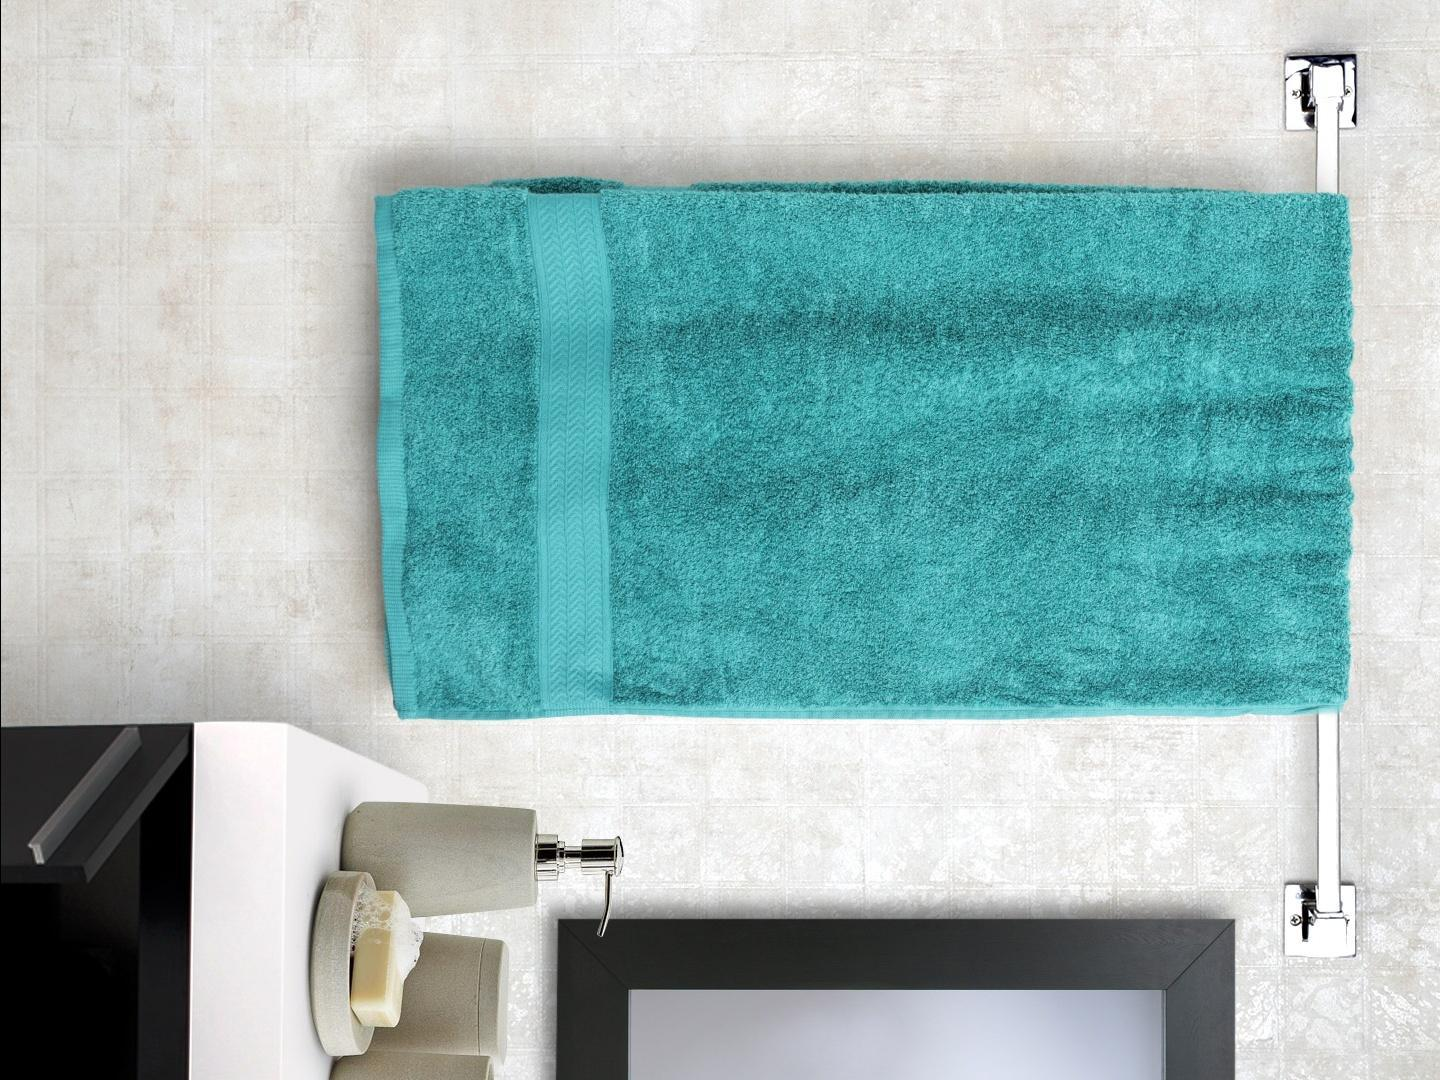towel: (342, 162, 1353, 729)
